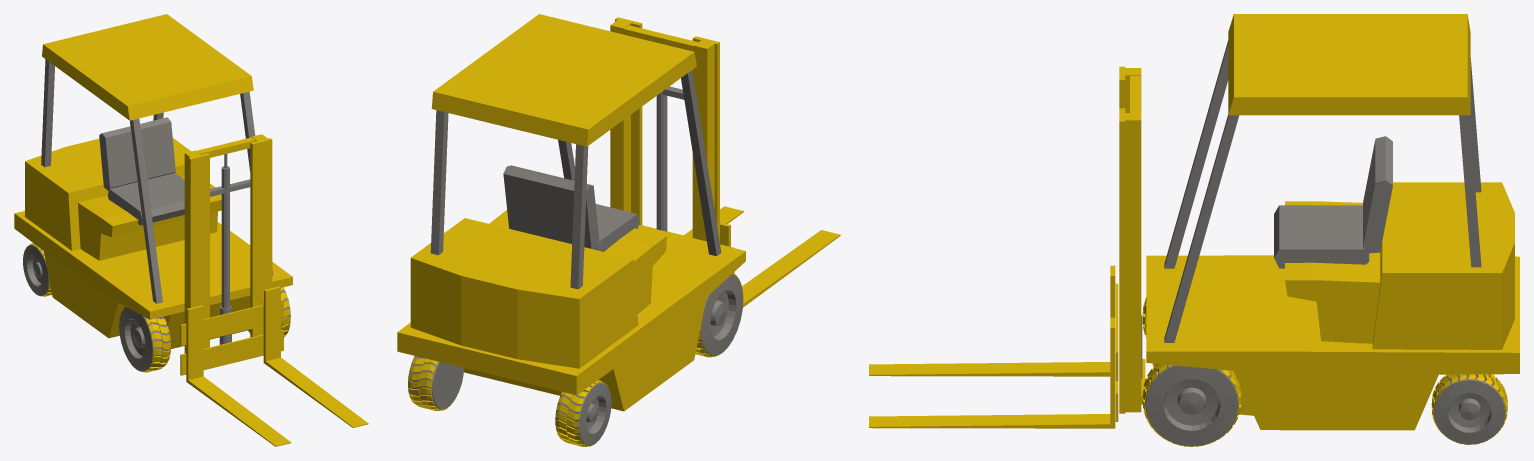
File: Forklift.fbx
3 renders of one model, left to right at view 1: azimuth 30°, elevation 25°; view 2: azimuth 150°, elevation 25°; view 3: azimuth 270°, elevation 25°, orthographic. The views are drawn at different scales.
Parts seen in each view (by area): view 1: Forklift; view 2: Forklift; view 3: Forklift.
Part boxes in pixels (x1,y1,x2,y2): Forklift: (14,14,368,446); Forklift: (397,14,840,446); Forklift: (869,14,1519,446).
Size of the model in its own units: 116 by 194 by 330.
